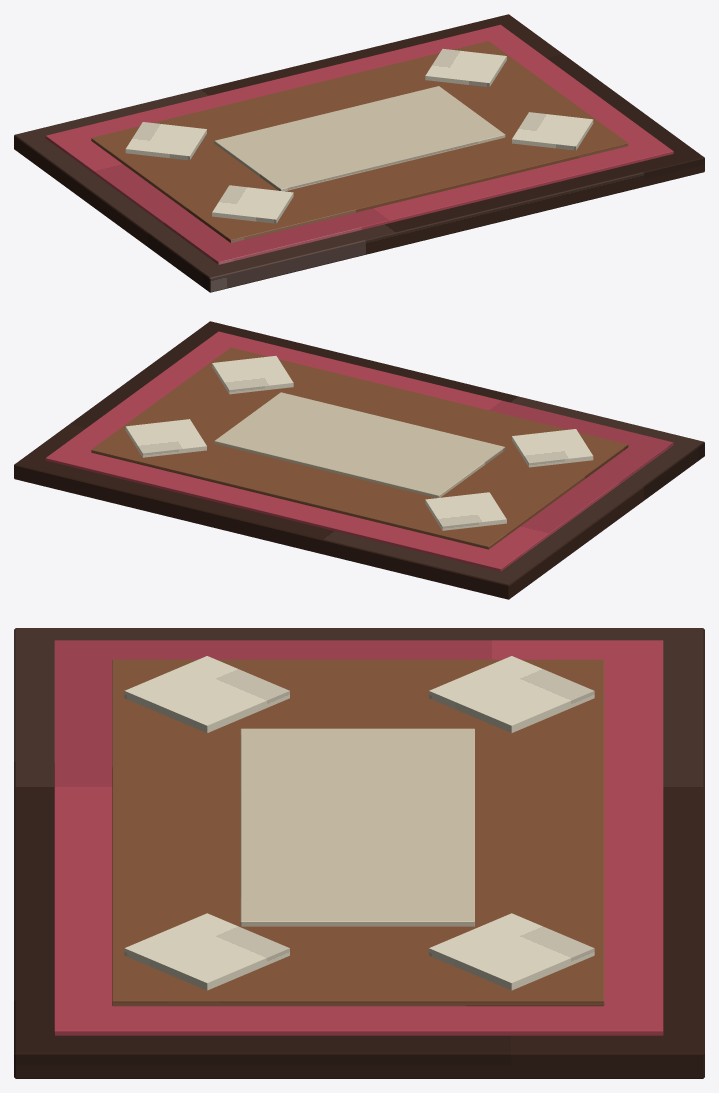
The model's file is bedroom_rug.glb.
The picture shows the model from 3 angles, top to bottom: view 1: azimuth 30°, elevation 25°; view 2: azimuth 150°, elevation 25°; view 3: azimuth 270°, elevation 25°; orthographic projection. The views are drawn at different scales.
Parts seen in each view (by area): view 1: RugField, RugBase, RugBorderOuter, RugCenter, RugDiamond_0.52_-0.26, RugDiamond_-0.52_-0.26, RugDiamond_0.52_0.26, RugDiamond_-0.52_0.26; view 2: RugField, RugBase, RugBorderOuter, RugCenter, RugDiamond_0.52_0.26, RugDiamond_-0.52_0.26, RugDiamond_0.52_-0.26, RugDiamond_-0.52_-0.26; view 3: RugField, RugBase, RugBorderOuter, RugCenter, RugDiamond_0.52_0.26, RugDiamond_0.52_-0.26, RugDiamond_-0.52_0.26, RugDiamond_-0.52_-0.26.
Part boxes in pixels (x1,y1,x2,y2): RugField: (91, 41, 628, 242); RugBase: (14, 14, 704, 292); RugBorderOuter: (45, 24, 673, 264); RugCenter: (214, 86, 505, 191); RugDiamond_0.52_-0.26: (512, 112, 593, 150); RugDiamond_-0.52_-0.26: (212, 185, 293, 223); RugDiamond_0.52_0.26: (425, 49, 506, 87); RugDiamond_-0.52_0.26: (125, 122, 206, 160); RugField: (91, 347, 628, 549); RugBase: (14, 321, 704, 599); RugBorderOuter: (45, 331, 673, 571); RugCenter: (214, 392, 505, 497); RugDiamond_0.52_0.26: (125, 419, 206, 457); RugDiamond_-0.52_0.26: (425, 492, 506, 530); RugDiamond_0.52_-0.26: (212, 356, 293, 394); RugDiamond_-0.52_-0.26: (512, 429, 593, 467); RugField: (112, 659, 604, 1006); RugBase: (14, 628, 704, 1078); RugBorderOuter: (54, 640, 663, 1035); RugCenter: (240, 728, 474, 926); RugDiamond_0.52_0.26: (429, 913, 594, 990); RugDiamond_0.52_-0.26: (124, 913, 289, 990); RugDiamond_-0.52_0.26: (429, 656, 594, 732); RugDiamond_-0.52_-0.26: (124, 656, 289, 732).
Bounding box in the file's own units: 1.72 × 0.089 × 1.18.
1 material, 1 textured.
